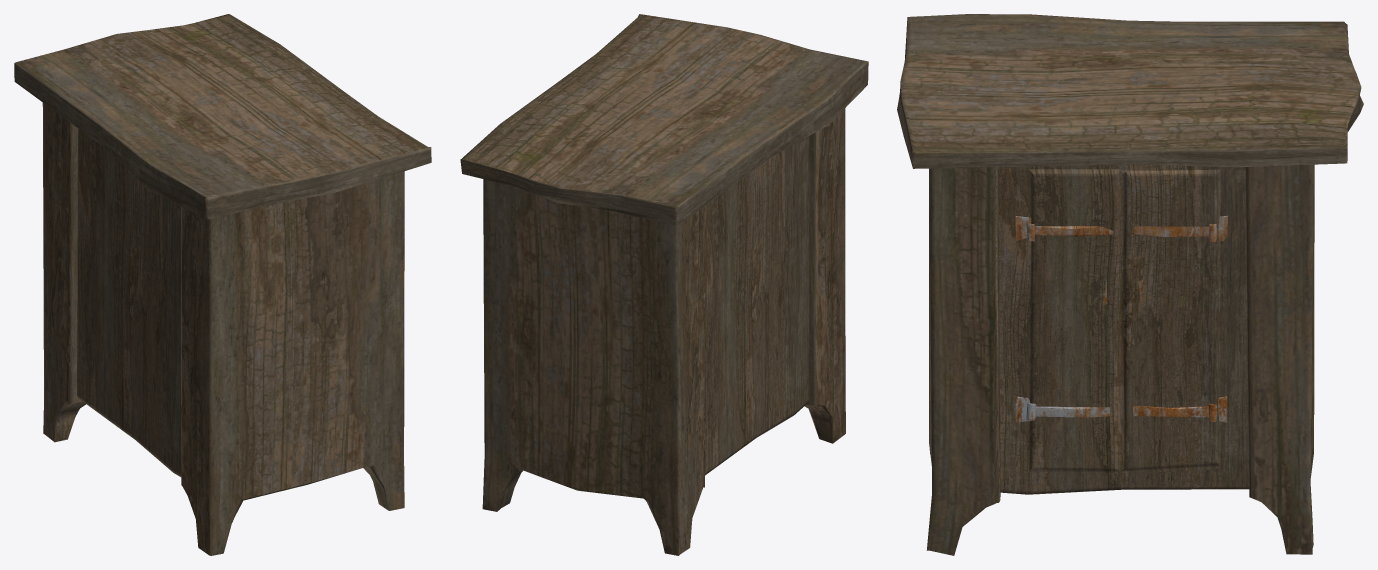
File: SM_Wardrobe01.fbx
3 renders of one model, left to right at view 1: azimuth 30°, elevation 25°; view 2: azimuth 150°, elevation 25°; view 3: azimuth 270°, elevation 25°, orthographic. The views are drawn at different scales.
Visible parts, largest first — view 1: SM_Wardrobe01_LOD0; view 2: SM_Wardrobe01_LOD0; view 3: SM_Wardrobe01_LOD0.
Boxes of the visible parts, x1,y1,x2,y2 form: SM_Wardrobe01_LOD0: (14, 14, 431, 555); SM_Wardrobe01_LOD0: (460, 14, 868, 555); SM_Wardrobe01_LOD0: (897, 14, 1363, 555).
Bounding box in the file's own units: 78.16 × 117 × 117.
